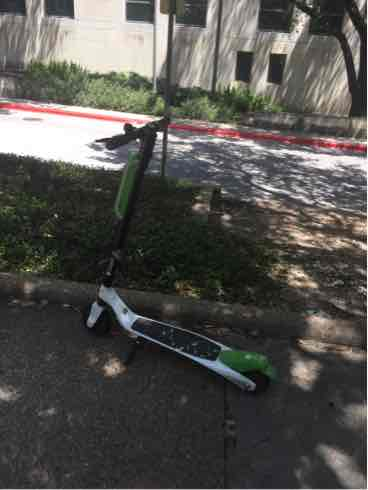scooter: (72, 116, 280, 403)
